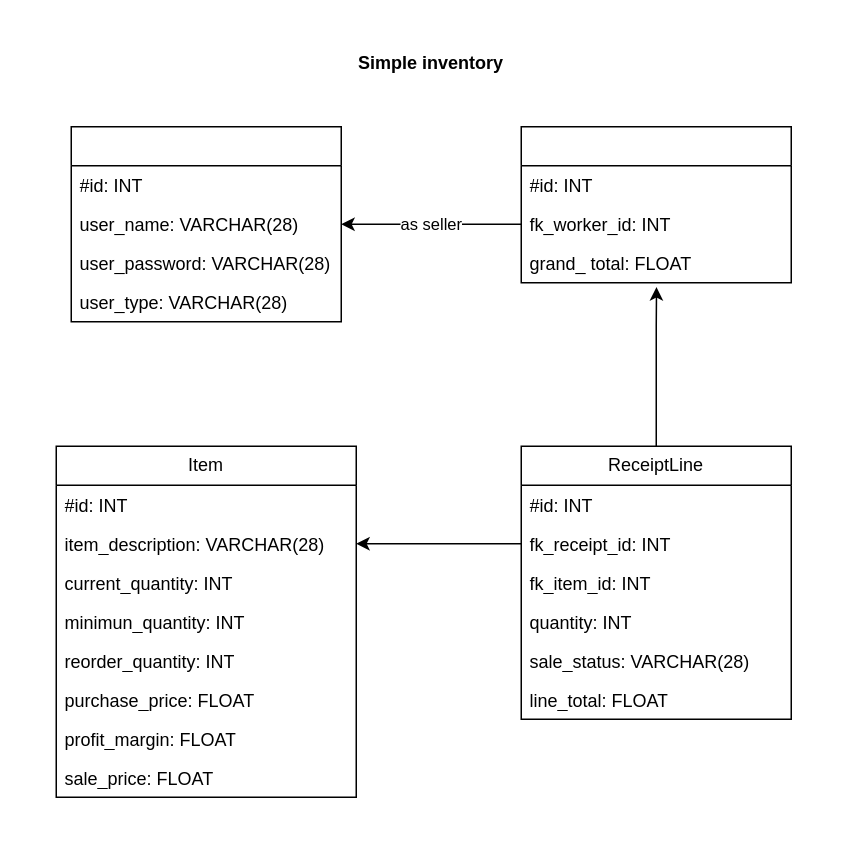
Some shapes in this 846 by 861 pixel diagram are drawn without their labels. Here are the shapes that lost their labels. From the top down, the box of each, then its label:
(70, 125, 341, 322): Worker
(520, 125, 791, 283): Receipt
